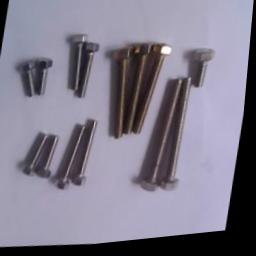Non-corroded-Bolts: (113, 45, 173, 142), (143, 80, 192, 195), (59, 120, 100, 191), (67, 35, 100, 99), (19, 132, 62, 179), (16, 58, 53, 97), (195, 52, 216, 91)
